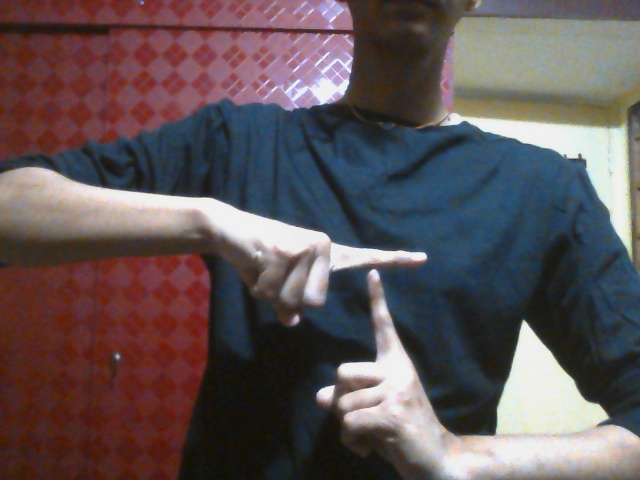T: (239, 212, 429, 475)
